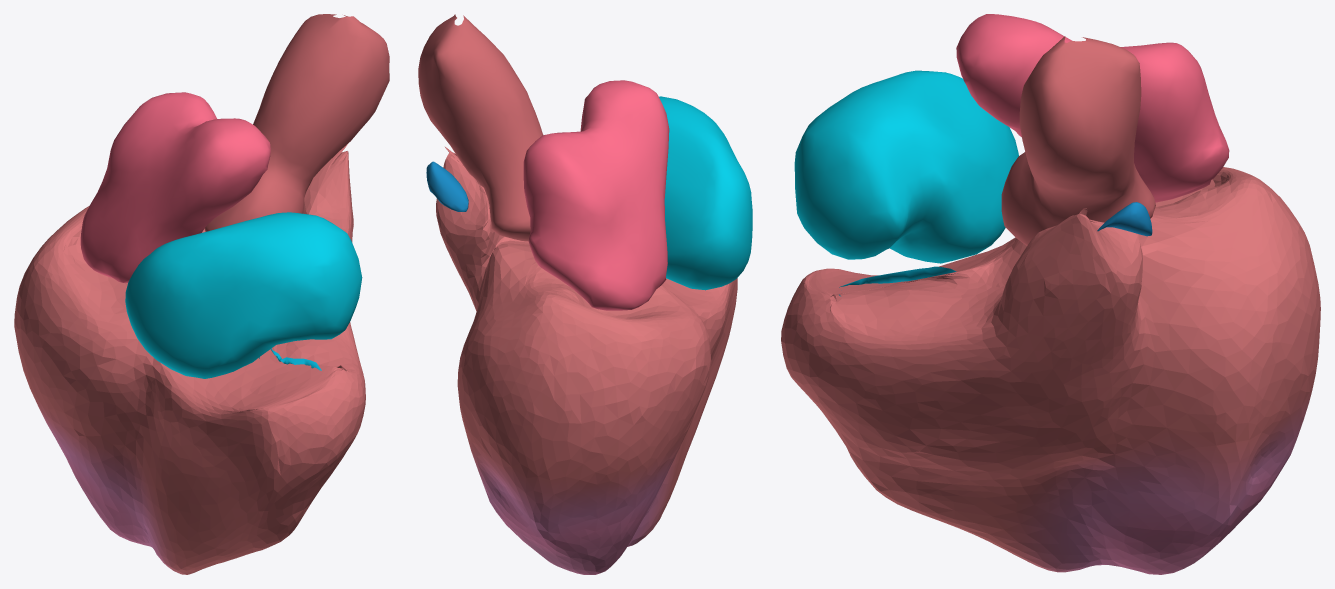
The model's file is frame_36.glb.
3 renders of one model, left to right at view 1: azimuth 30°, elevation 25°; view 2: azimuth 150°, elevation 25°; view 3: azimuth 270°, elevation 25°, orthographic. The views are drawn at different scales.
Visible parts, largest first — view 1: Renderer Node; view 2: Renderer Node; view 3: Renderer Node.
Part boxes in pixels (x1,y1,x2,y2): Renderer Node: [14, 14, 389, 574]; Renderer Node: [418, 14, 752, 574]; Renderer Node: [781, 14, 1320, 574].
Size of the model in its own units: 100 by 157 by 121.
